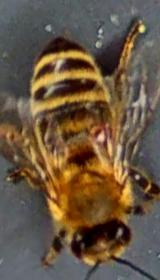varroa_mite: (84, 108, 118, 144)
